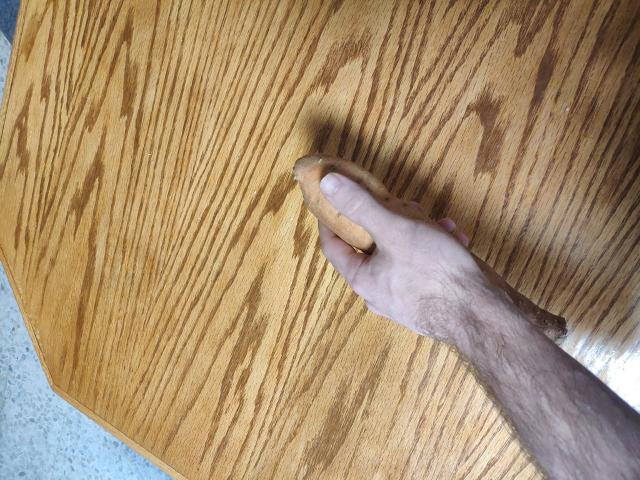sweet_potato: (288, 151, 562, 339)
